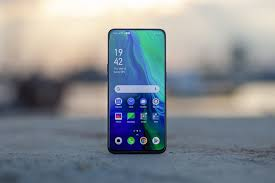oppo: (104, 25, 169, 154)
